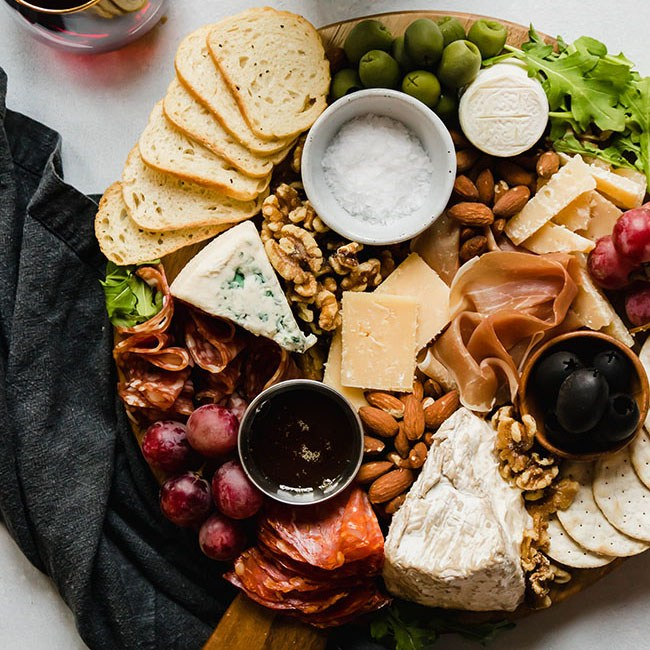cheese: (396, 414, 533, 632), (313, 251, 447, 401), (142, 189, 249, 324), (505, 150, 619, 273), (552, 266, 625, 355)
